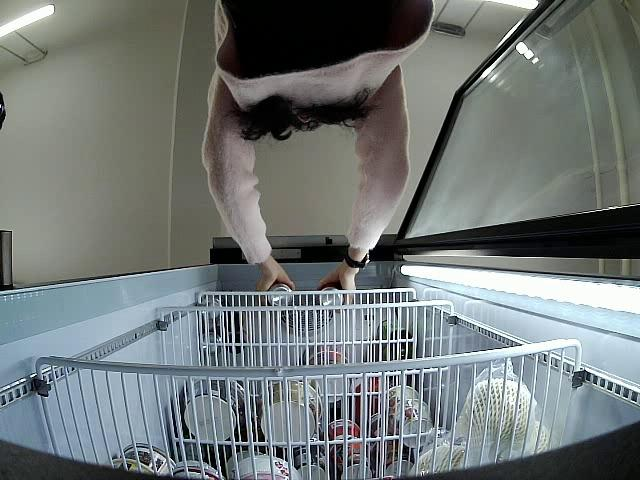00_hand: (323, 265, 358, 311), (254, 264, 295, 295)
11_cocaColaZero: (320, 281, 349, 309), (268, 282, 295, 309)
